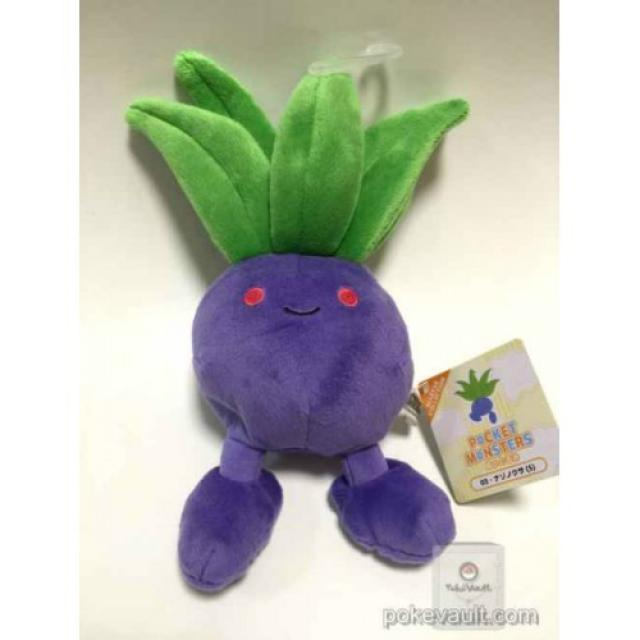Oddish: (182, 119, 420, 586)
